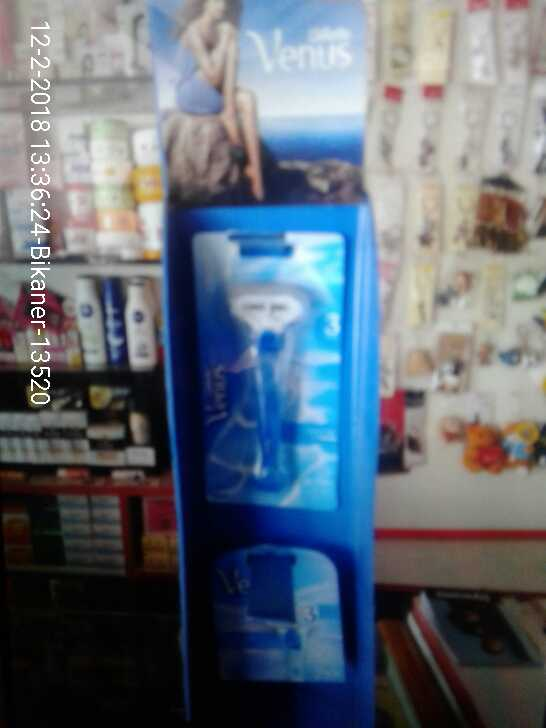venus: (189, 231, 347, 517), (200, 546, 345, 690)
